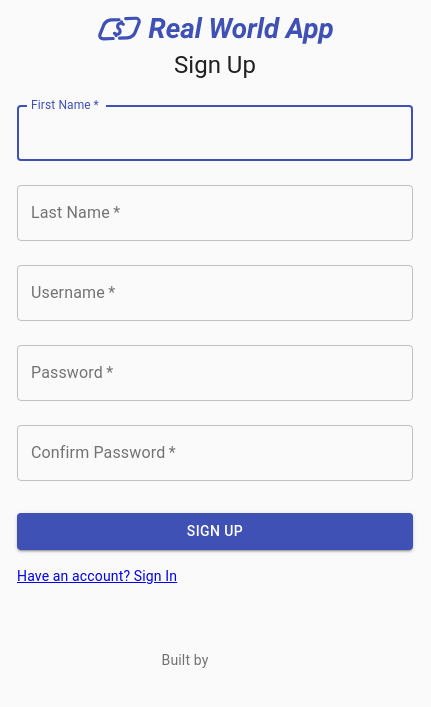
Test: Real World App Test Scenario for sending and recieving › Sign Up form Filling and Submission for sender › verify the signup button is disable when feilds are empty
Click the heading with test id "signup-title": point(215, 65) [174,49,256,81]
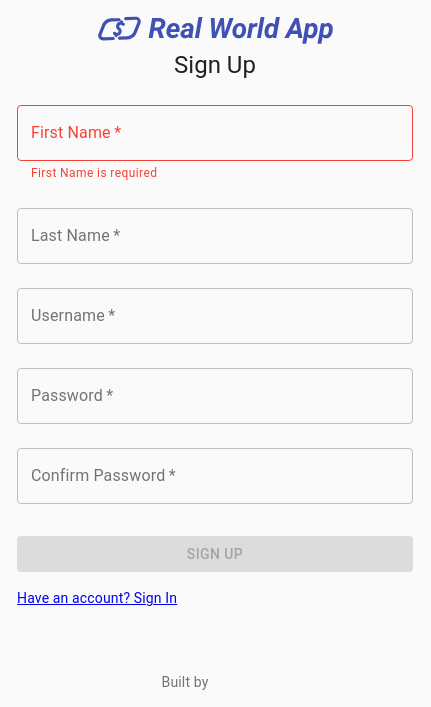
Expected: the button with test id "signup-submit" is disabled, [17,536,413,573]
